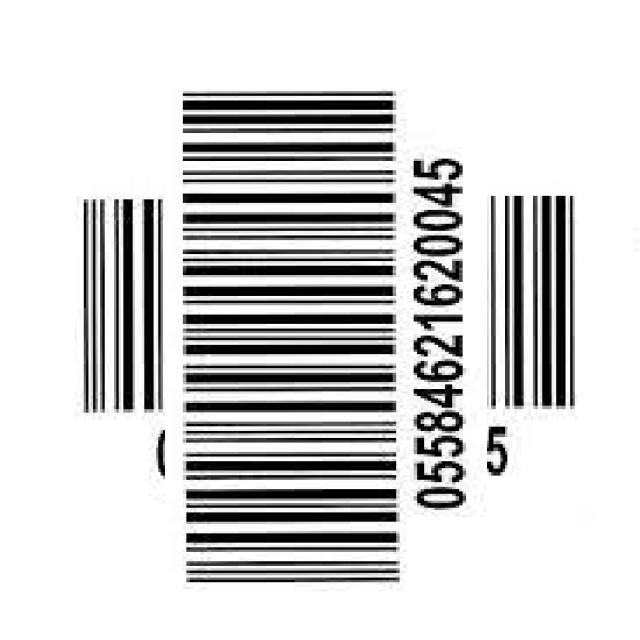Barkod: (118, 131, 534, 547)
